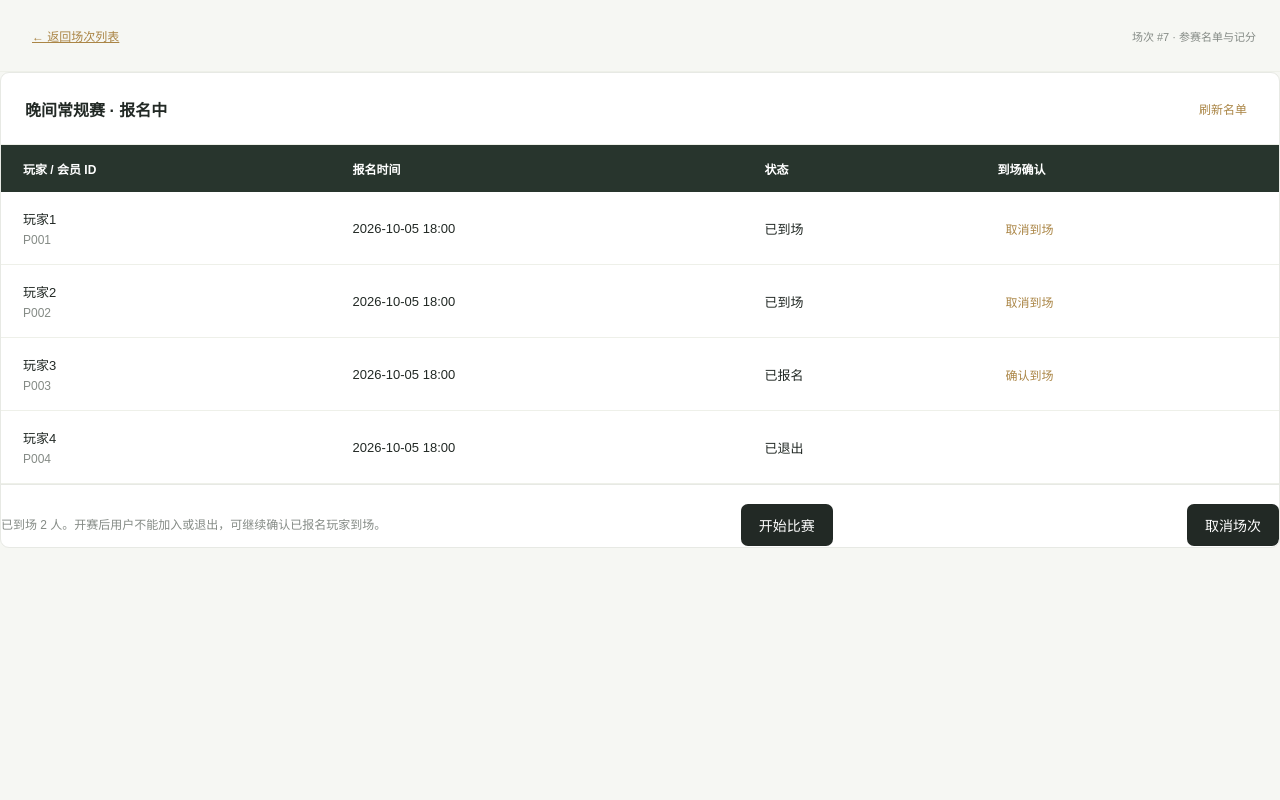
Test: 管理员确认到场并开赛，只能从本场到场名单选人记分
Expected: the link "← 返回场次列表" is shown, [32, 30, 119, 44]
Click the button "确认到场" at (1030, 374), box [998, 360, 1062, 388]
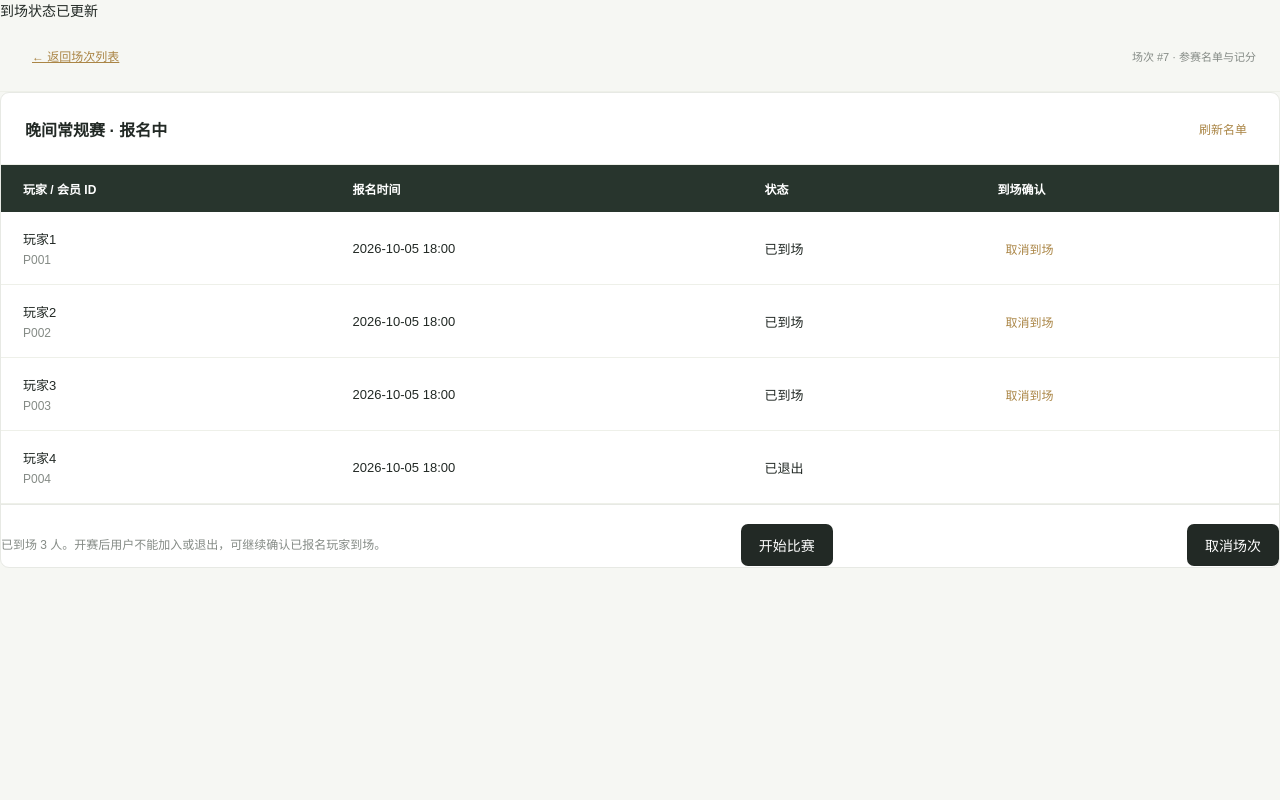
Expected: the text "到场状态已更新" is shown, [0, 3, 98, 19]
Click the button "开始比赛" at (787, 545), box [741, 524, 833, 566]
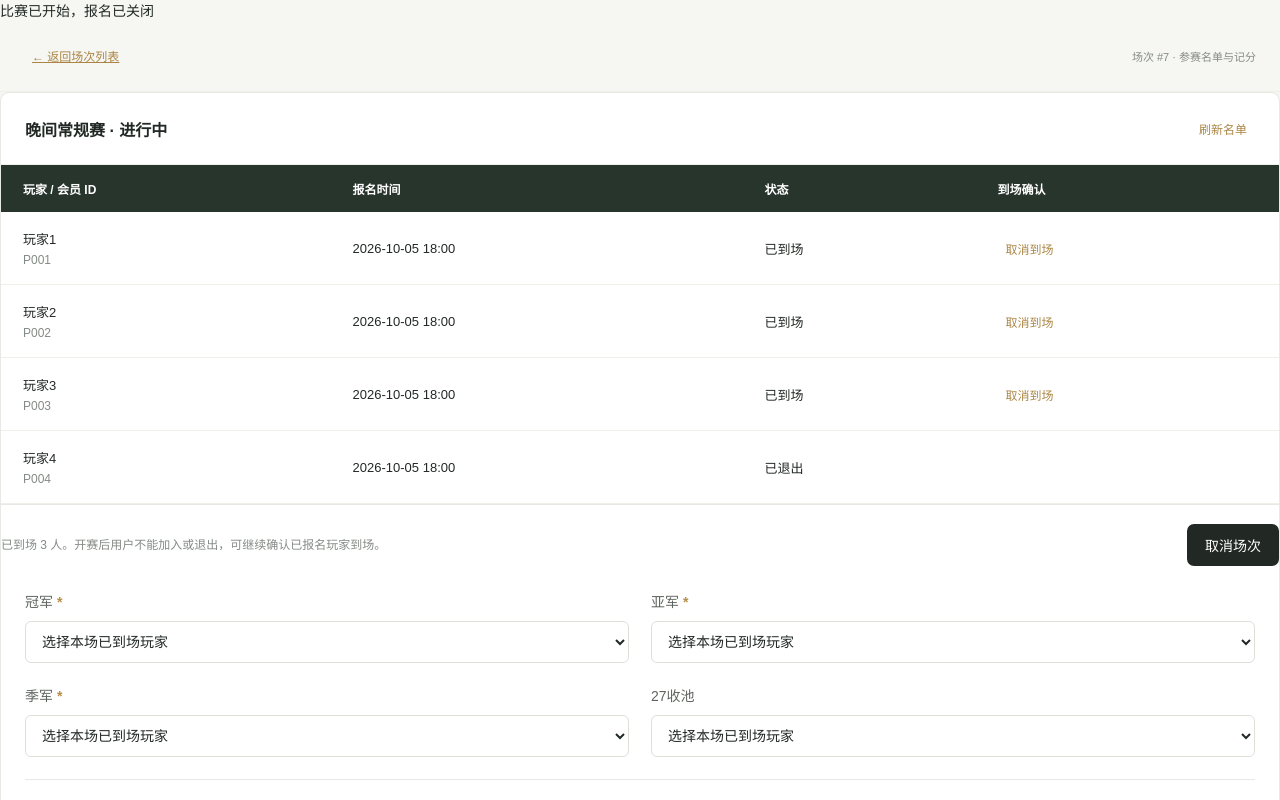
Expected: the dropdown labelled "冠军 *" does not show "玩家4"
Select "玩家1 · P001" in the dropdown named "冠军 *" at (327, 642), box [25, 621, 629, 663]
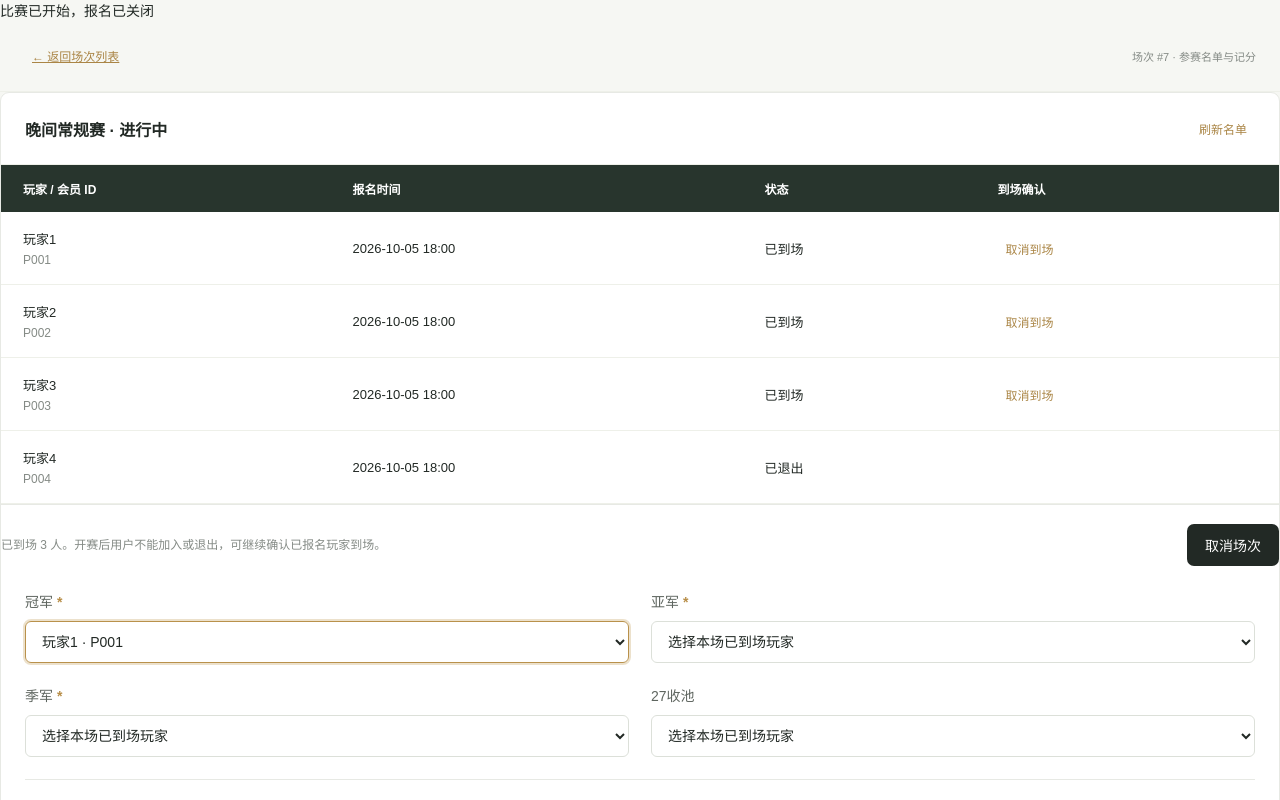
Select "玩家2 · P002" in the dropdown named "亚军 *" at (953, 642), box [651, 621, 1255, 663]
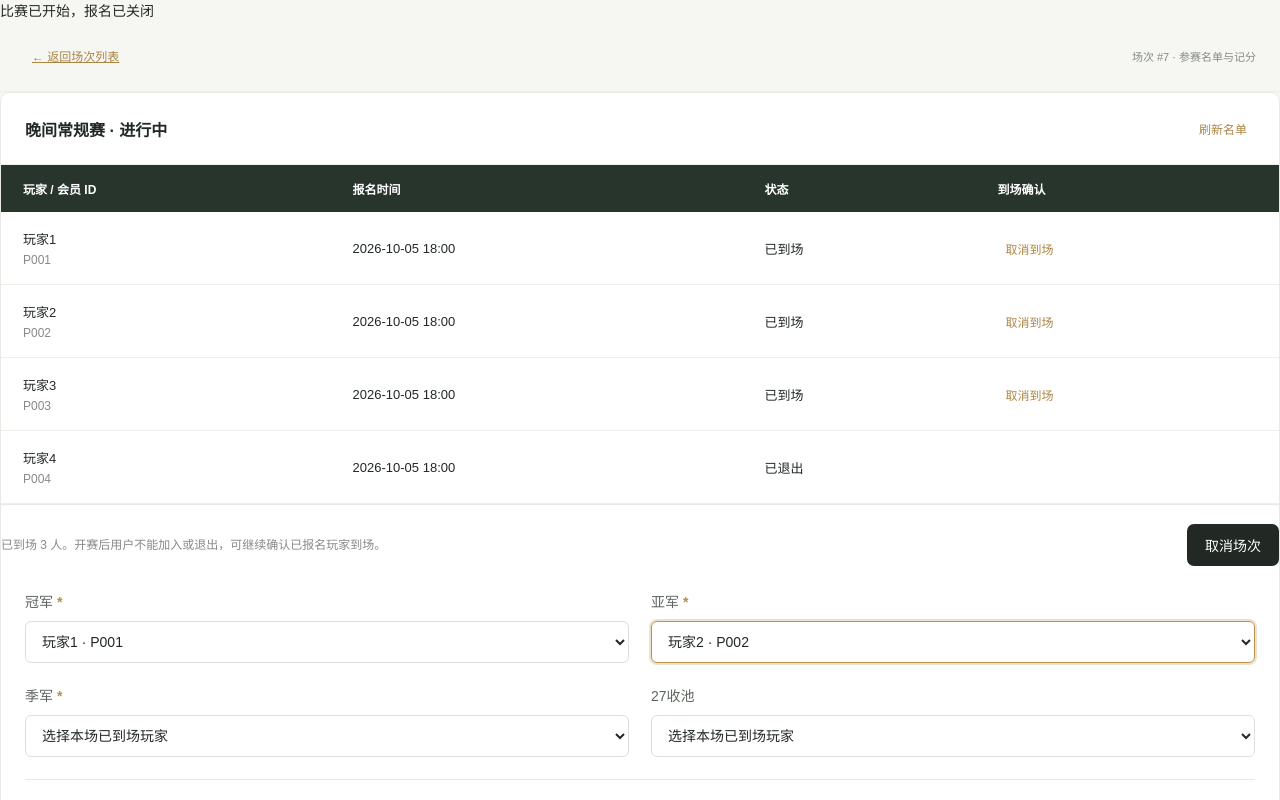
Select "玩家3 · P003" in the dropdown named "季军 *" at (327, 736), box [25, 715, 629, 757]
(page scrolled)
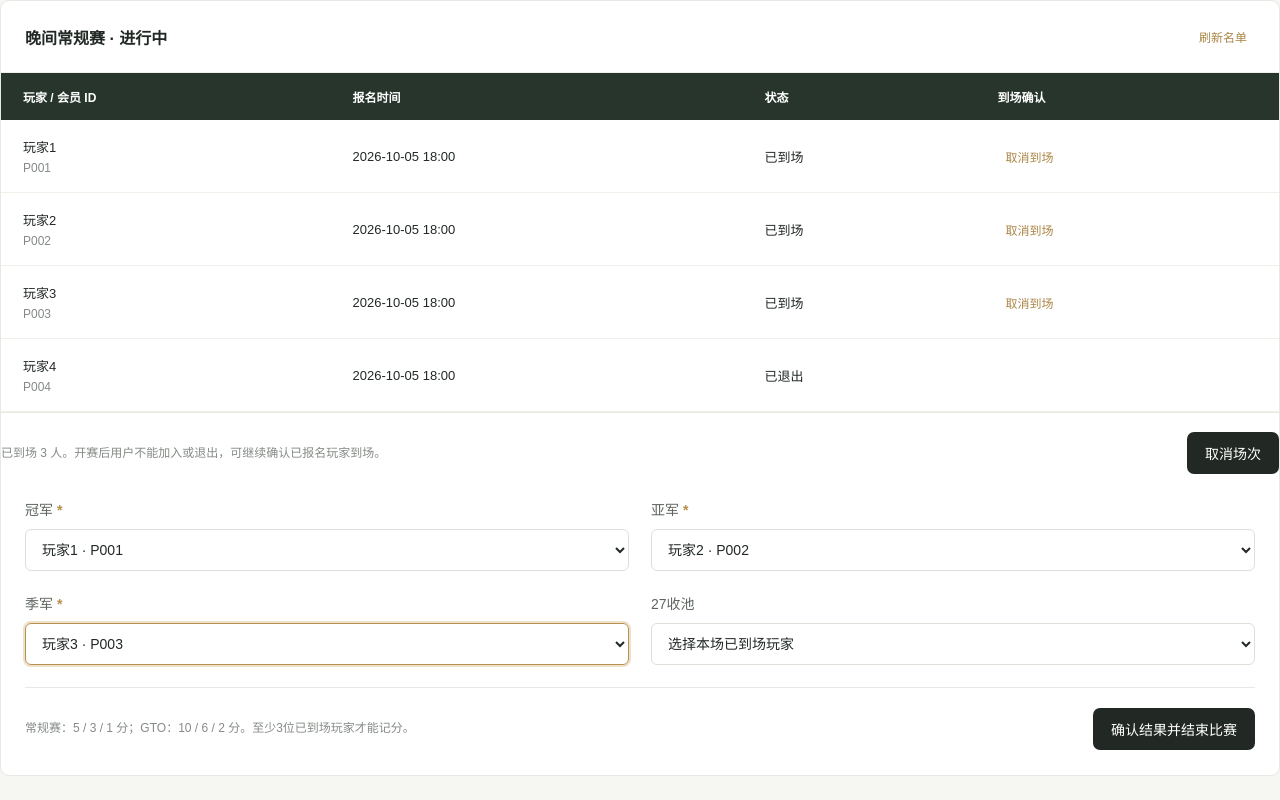
Click the button "确认结果并结束比赛" at (1174, 729), box [1093, 708, 1255, 750]
(page scrolled)
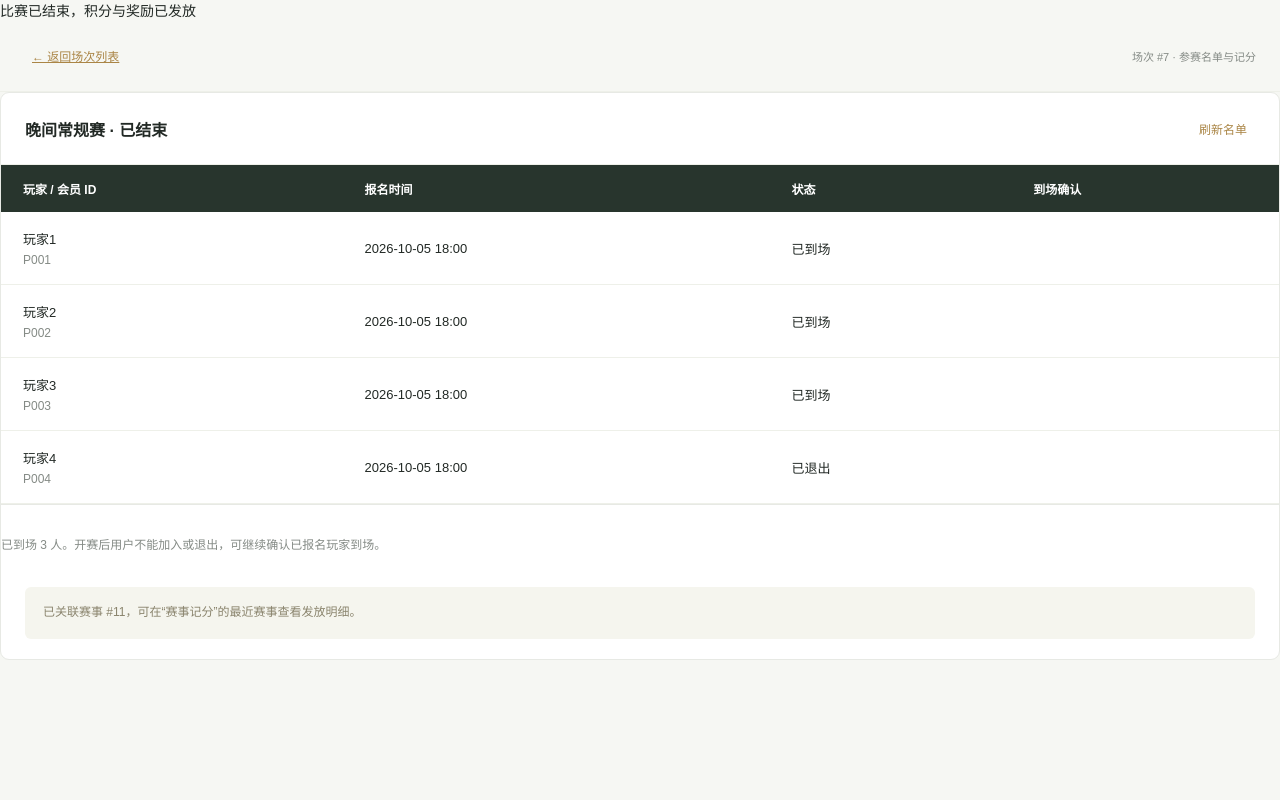
Expected: the text "比赛已结束，积分与奖励已发放" is shown, [0, 3, 196, 19]
Expected: the button "确认结果并结束比赛" is gone
